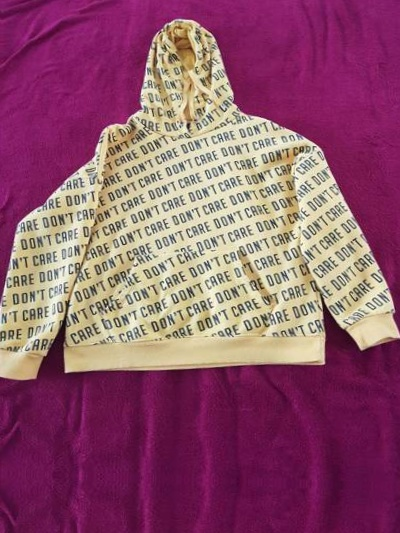Hoodie: (0, 2, 400, 407)
